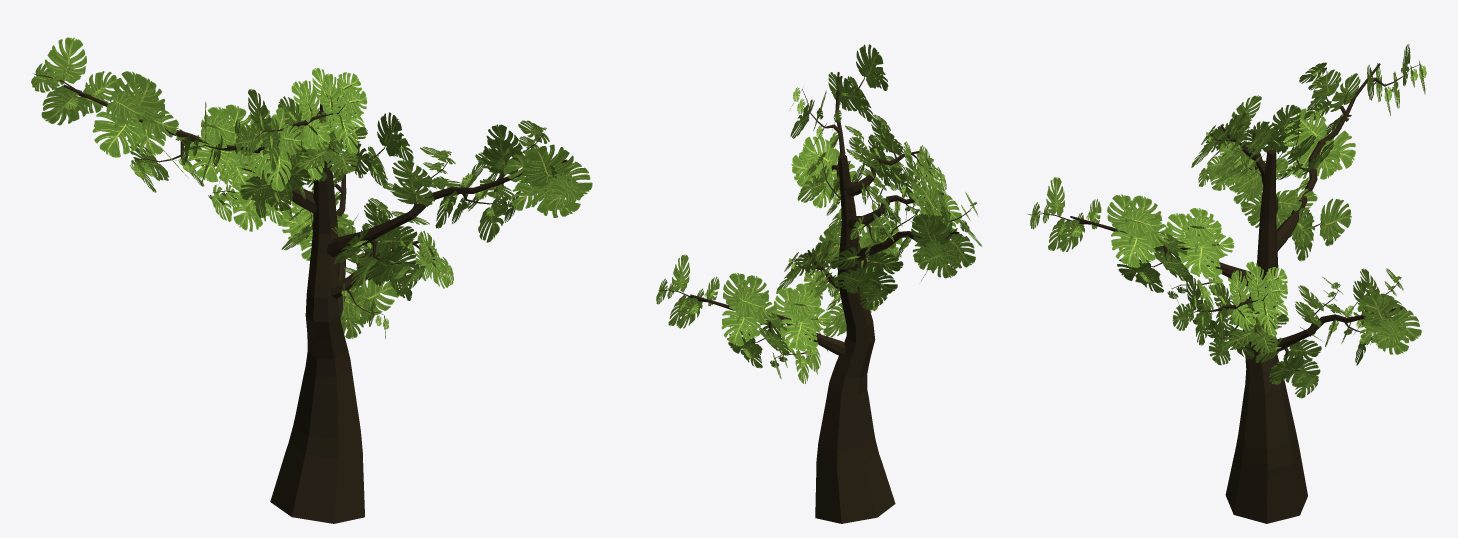
The model's file is Tree obj.obj.
The picture shows the model from 3 angles, left to right: view 1: azimuth 30°, elevation 25°; view 2: azimuth 150°, elevation 25°; view 3: azimuth 270°, elevation 25°; orthographic projection. The views are drawn at different scales.
Visible parts, largest first — view 1: TreeV2_2:Mesh, TreeV2:Mesh; view 2: TreeV2_2:Mesh, TreeV2:Mesh; view 3: TreeV2_2:Mesh, TreeV2:Mesh.
Part boxes in pixels (<box>): TreeV2_2:Mesh: <box>31,37,592,339</box>; TreeV2:Mesh: <box>34,74,577,523</box>; TreeV2_2:Mesh: <box>656,44,982,383</box>; TreeV2:Mesh: <box>658,72,972,523</box>; TreeV2_2:Mesh: <box>1027,44,1426,398</box>; TreeV2:Mesh: <box>1032,63,1418,523</box>.
Bounding box in the file's own units: 2.07 × 2.32 × 2.13.
Materials: 2 (1 with a texture image).
